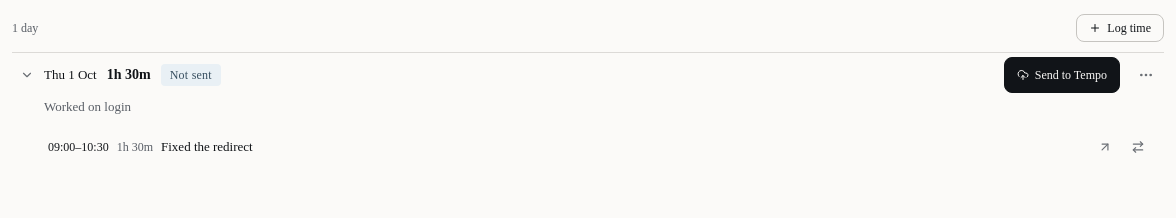
preview › nothing sent: names the first reason in plain words
Click the button "Send to Tempo" at (1062, 75), box [1004,57,1120,93]
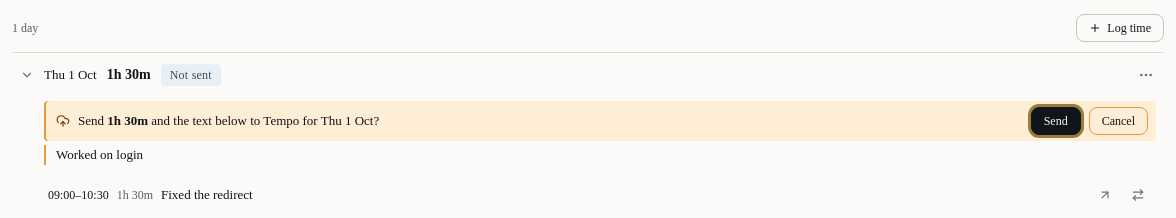
Check: the element named "Confirm sending Thu 1 Oct to Tempo" is shown, box [44,101,1156,141]
Click the button "Send" at (1056, 121), box [1031,107,1081,135]
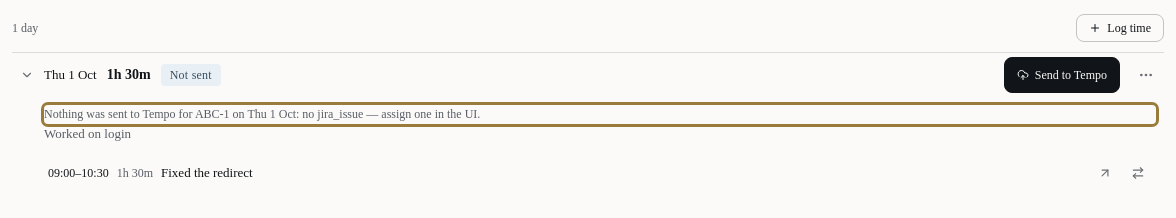
Check: the text "Nothing was sent to Tempo for ABC-1 on Thu 1 Oct: no jira_issue" shows "Nothing was sent to Tempo for ABC-1 on Thu 1 Oct: no jira_issue — assign one in the UI.", box [44,107,480,121]
